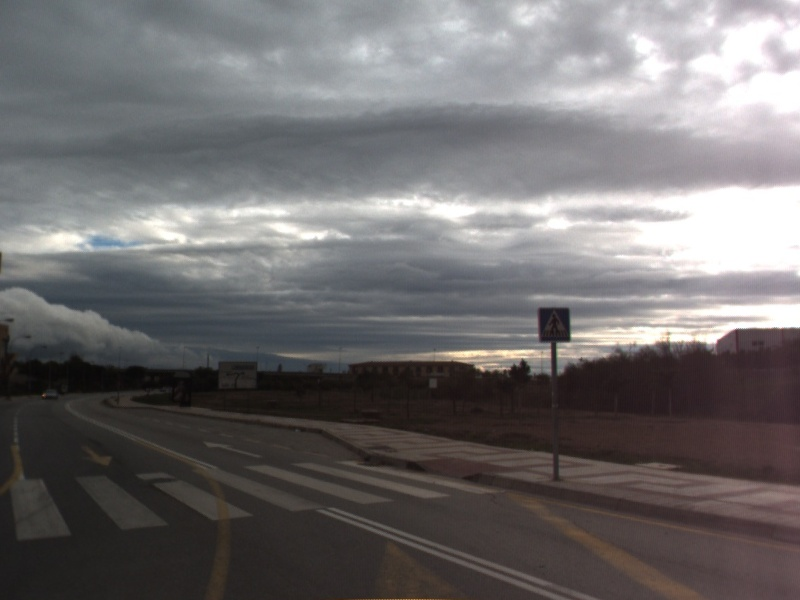STRAIGHT: (201, 439, 264, 460)
